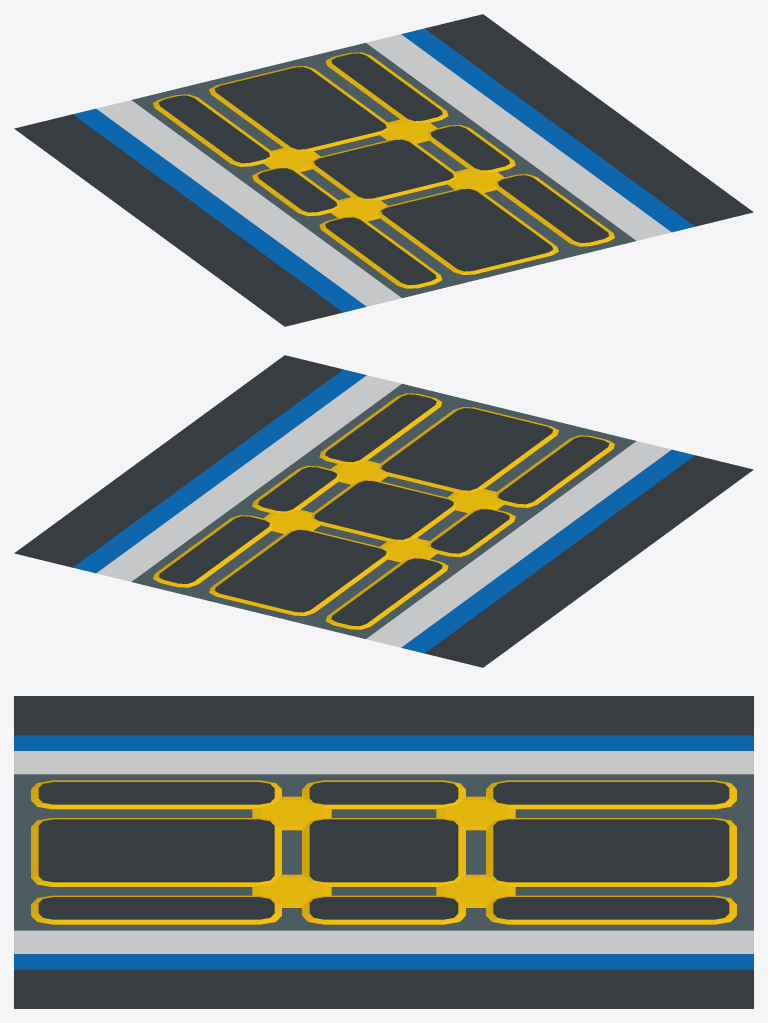
Rendered from Floor_type_C_019.002.fbx.
The picture shows the model from 3 angles, top to bottom: view 1: azimuth 30°, elevation 25°; view 2: azimuth 150°, elevation 25°; view 3: azimuth 270°, elevation 25°; orthographic projection. The views are drawn at different scales.
Visible parts, largest first — view 1: Floor_type_C_019.002; view 2: Floor_type_C_019.002; view 3: Floor_type_C_019.002.
Boxes of the visible parts, x1,y1,x2,y2 form: Floor_type_C_019.002: [14, 14, 753, 326]; Floor_type_C_019.002: [14, 355, 753, 667]; Floor_type_C_019.002: [14, 696, 753, 1008].
Bounding box in the file's own units: 400 × 400 × 1.34.
